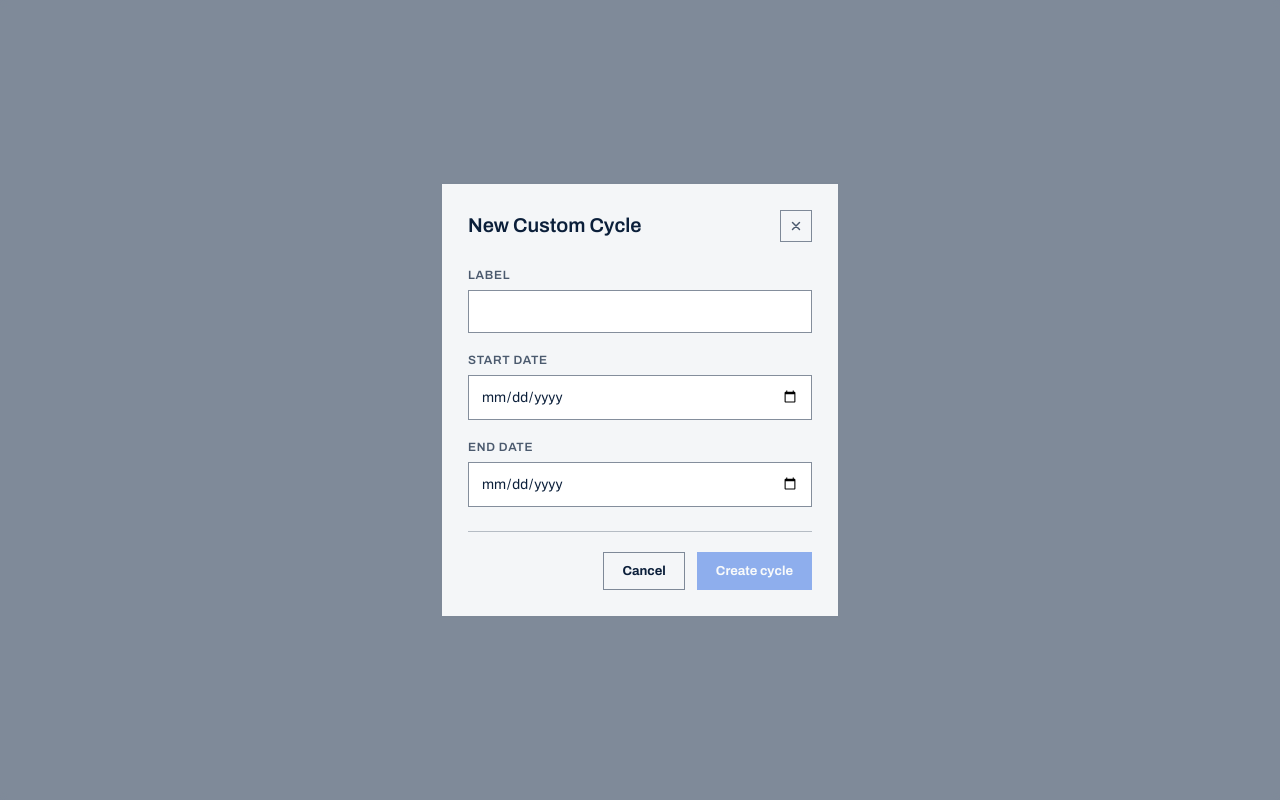
it: CreateCycleDialog › shows an error and stays open when creation fails
The image size is (1280, 800).
Type "Special Review" into the field labelled "Label". click: [640, 311]
box: [468,290,812,333]
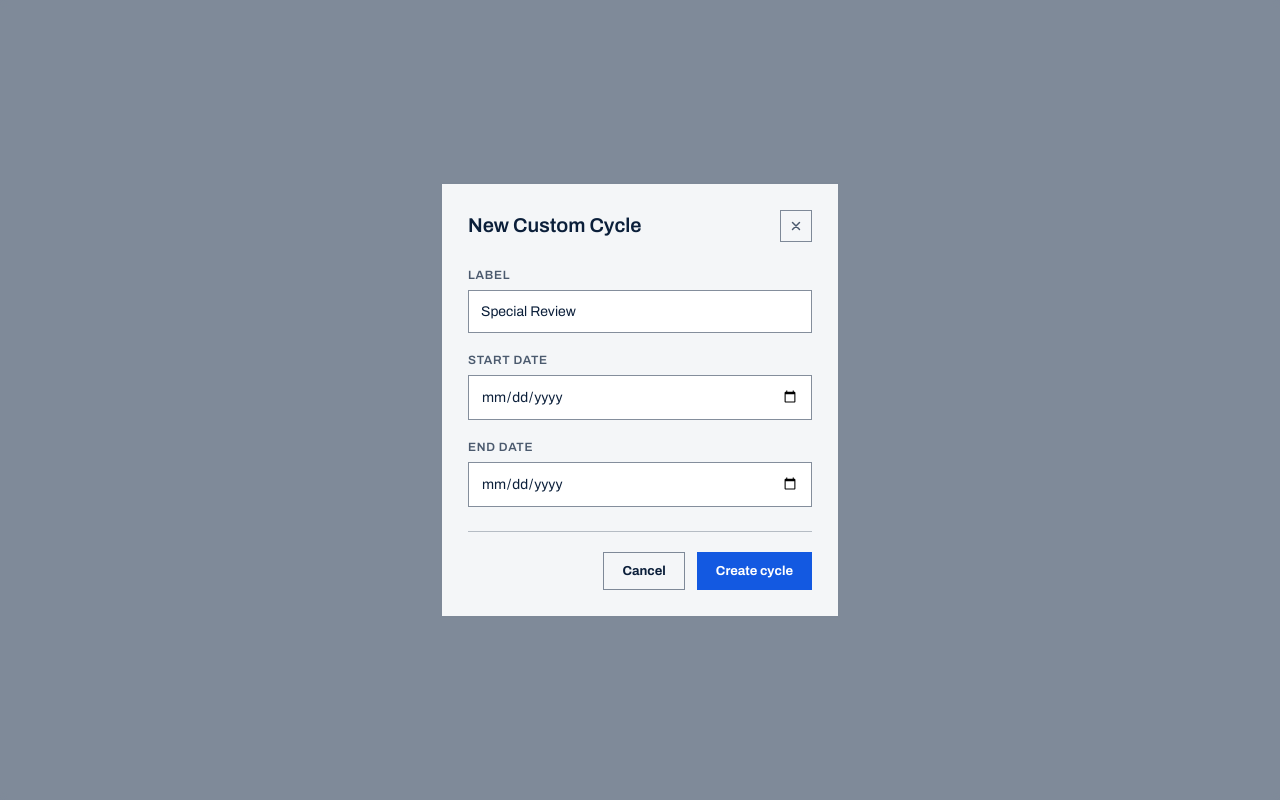
Click the button "Create cycle". click: [754, 571]
box: [697,552,812,590]
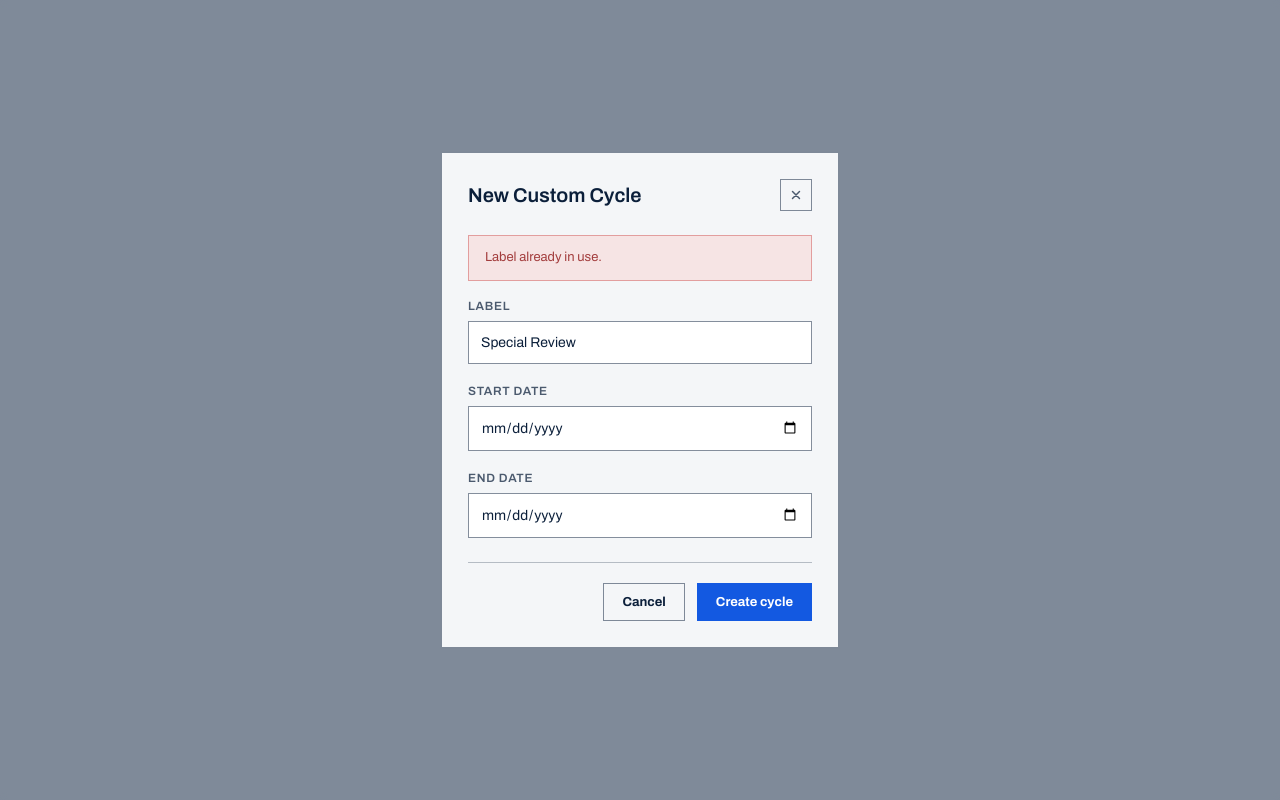
Expected: the text "Label already in use." is shown, [468,235,812,281]
